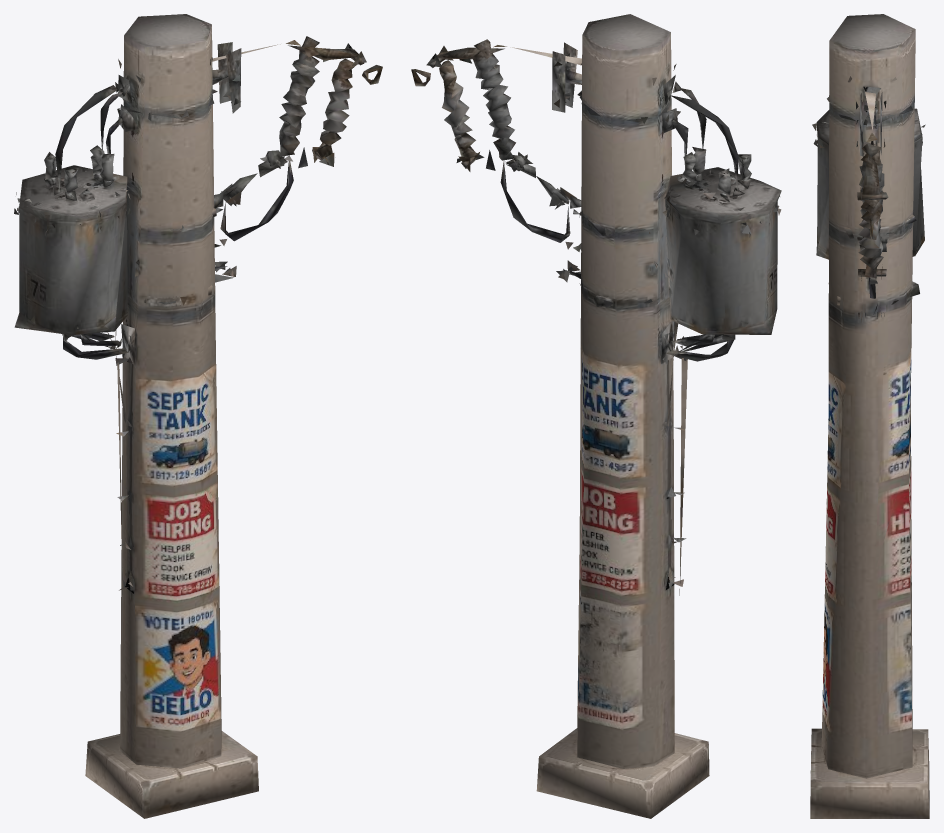
File: electric_pole.glb
The picture shows the model from 3 angles, left to right: view 1: azimuth 30°, elevation 25°; view 2: azimuth 150°, elevation 25°; view 3: azimuth 270°, elevation 25°; orthographic projection.
Parts seen in each view (by area): view 1: Mesh0; view 2: Mesh0; view 3: Mesh0.
Part boxes in pixels (left/top/right/bottom): Mesh0: left=14, top=14, right=382, bottom=818; Mesh0: left=411, top=14, right=781, bottom=818; Mesh0: left=810, top=14, right=929, bottom=818.
Size of the model in its own units: 0.5061 by 0.9992 by 0.143.
Materials: 1 (1 with a texture image).
